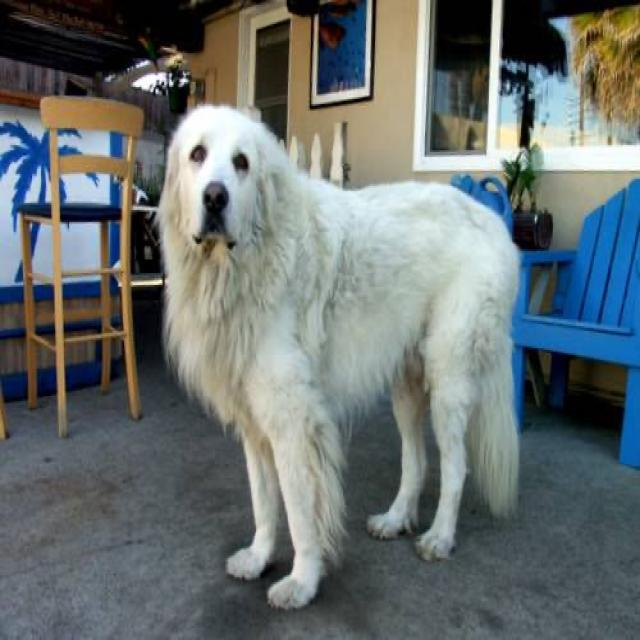dog: (158, 103, 296, 250)
